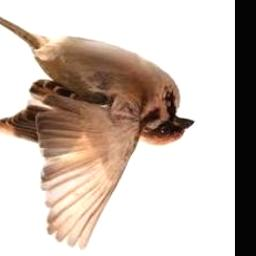Sparrow: (0, 0, 194, 252)
